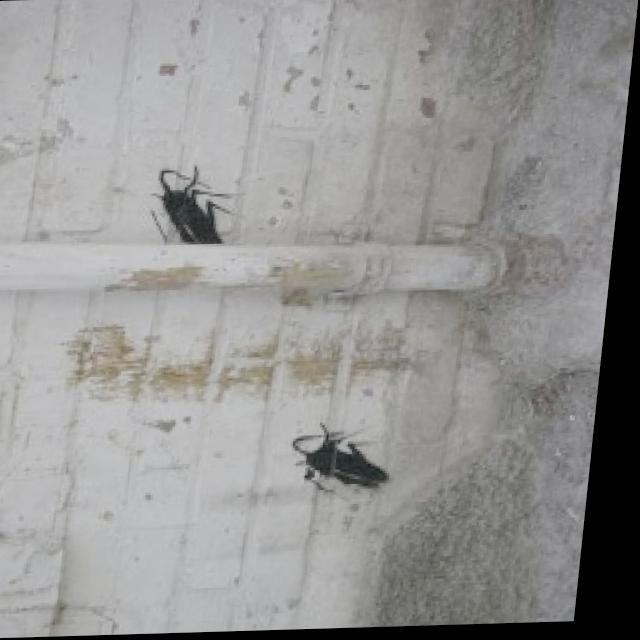cockroach: (151, 164, 273, 309), (278, 406, 394, 506)
